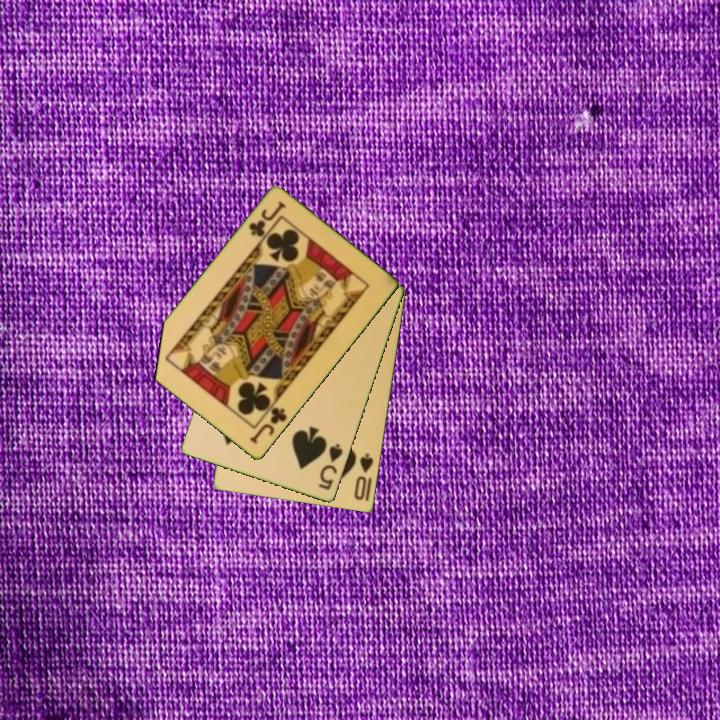10s: (351, 450, 377, 503)
5s: (315, 440, 346, 493)
Jc: (246, 404, 290, 447), (245, 198, 289, 241)
